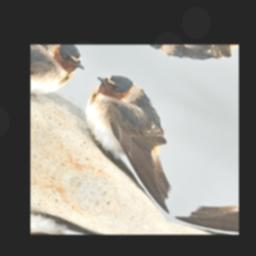Swallow: (50, 64, 226, 215)
